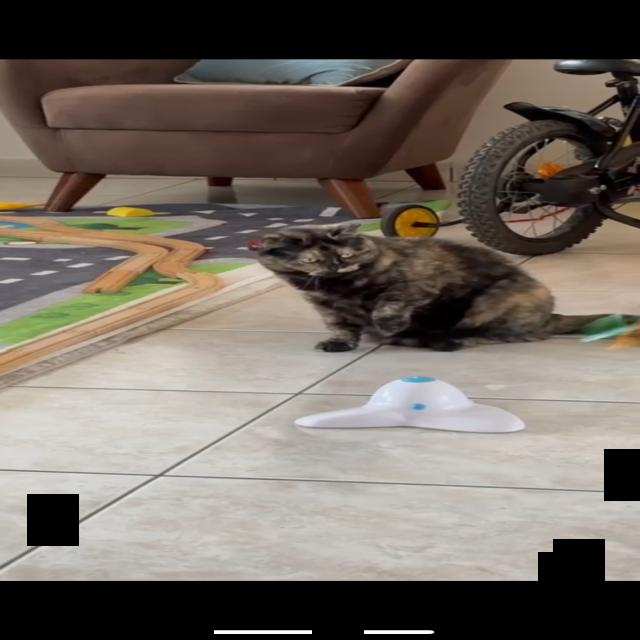authorized: (253, 221, 638, 353)
